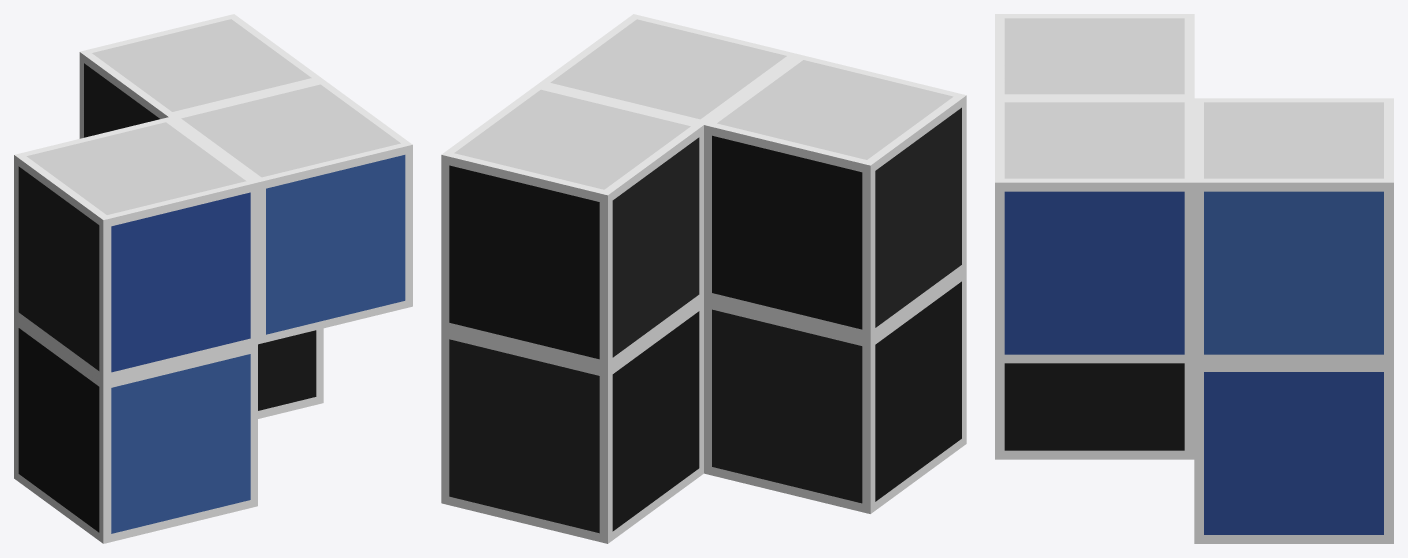
File: marmelab.glb
3 renders of one model, left to right at view 1: azimuth 30°, elevation 25°; view 2: azimuth 150°, elevation 25°; view 3: azimuth 270°, elevation 25°, orthographic. The views are drawn at different scales.
Visible parts, largest first — view 1: Cube; view 2: Cube; view 3: Cube.
Part boxes in pixels (<box>): Cube: <box>14,14,412,543</box>; Cube: <box>441,14,966,543</box>; Cube: <box>995,14,1393,543</box>.
Bounding box in the file's own units: 4 × 4 × 4.
